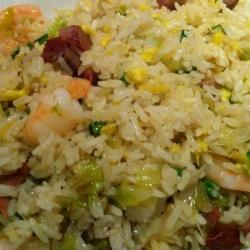rice: (8, 18, 237, 238)
